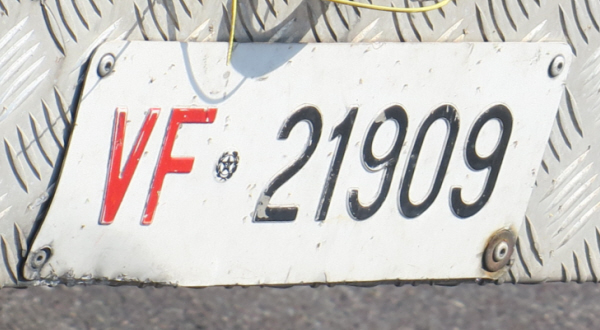license_plate: (20, 40, 573, 282)
